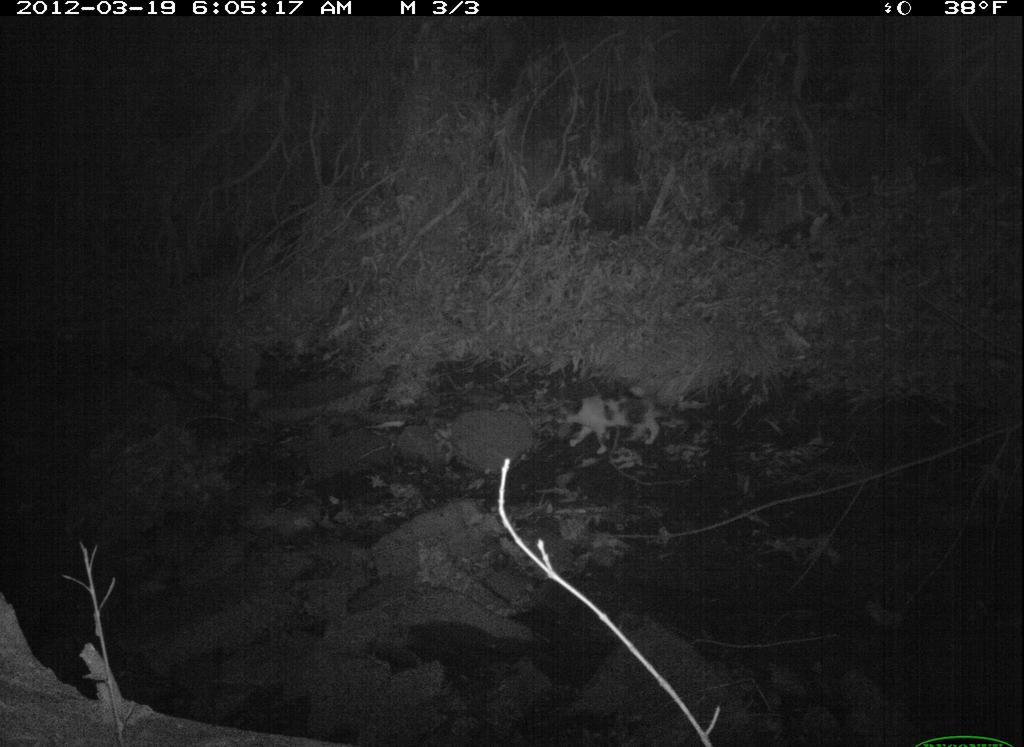cat: (553, 383, 682, 461)
